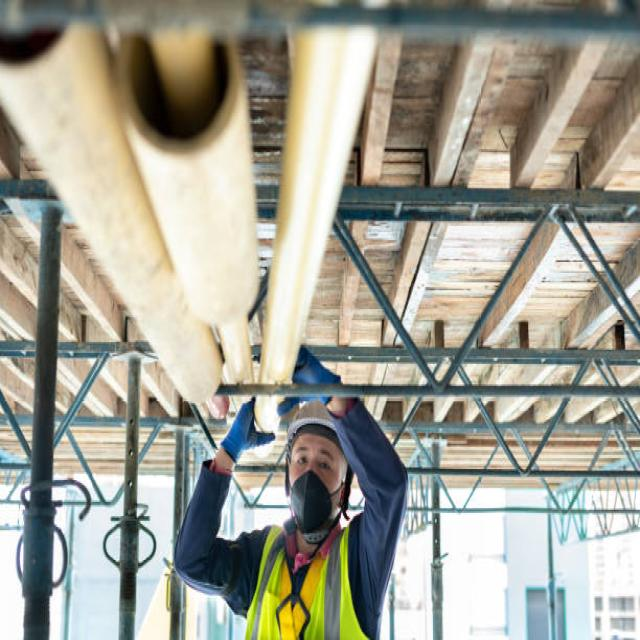Gloves: (224, 391, 278, 466), (290, 339, 346, 405)
Vest: (244, 519, 373, 640)
person: (172, 339, 410, 640)
